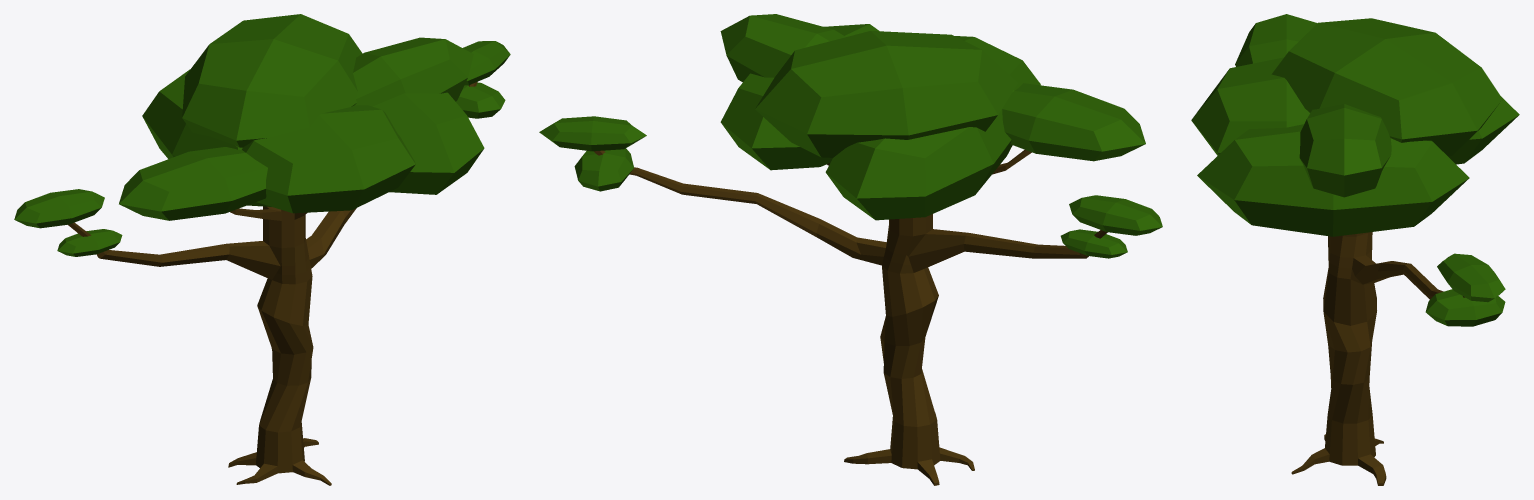
Rendered from Lowpoly_Tree_Jungle.fbx.
3 renders of one model, left to right at view 1: azimuth 30°, elevation 25°; view 2: azimuth 150°, elevation 25°; view 3: azimuth 270°, elevation 25°, orthographic. The views are drawn at different scales.
Parts seen in each view (by area): view 1: Cylinder.001; view 2: Cylinder.001; view 3: Cylinder.001.
Boxes of the visible parts, <box> form: Cylinder.001: <box>14,14,510,485</box>; Cylinder.001: <box>539,14,1162,485</box>; Cylinder.001: <box>1191,14,1519,485</box>.
Size of the model in its own units: 2888 by 2104 by 1460.
